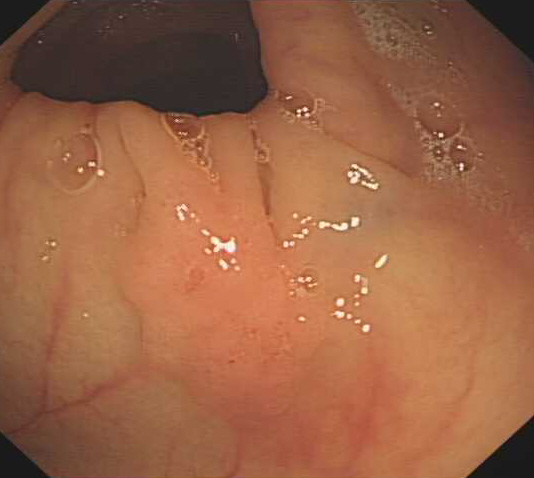adenoma: (122, 170, 319, 413)
